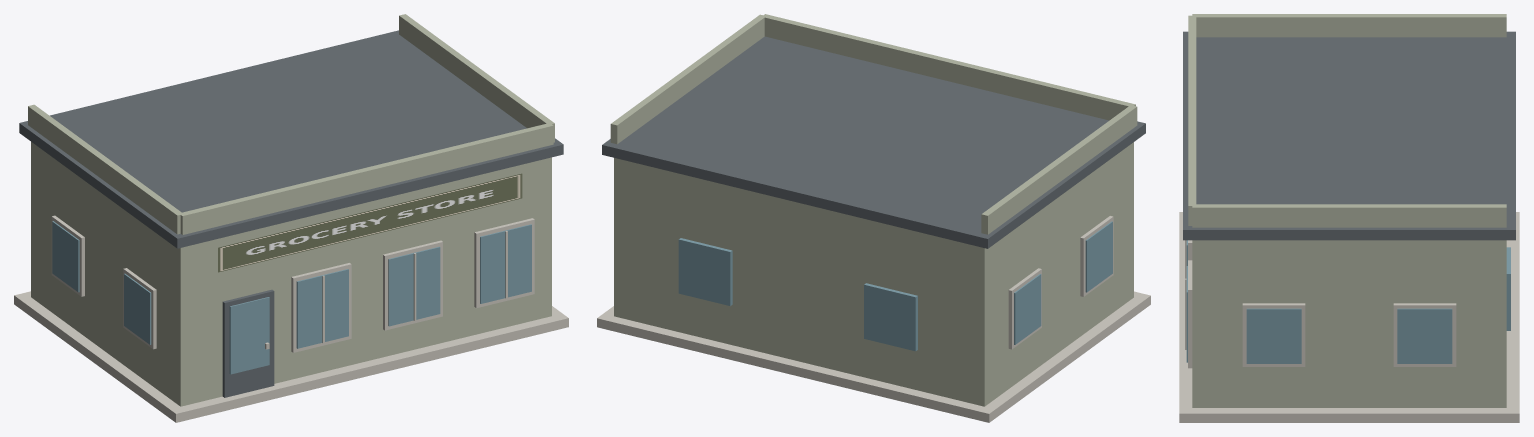
File: grocery_store.glb
3 views of the same model, side by side, from view 1: azimuth 30°, elevation 25°; view 2: azimuth 150°, elevation 25°; view 3: azimuth 270°, elevation 25° (orthographic). The views are drawn at different scales.
Parts seen in each view (by area): view 1: world; view 2: world; view 3: world.
Boxes of the visible parts, box(x1,y1,x2,y2) form: world: box(14, 14, 568, 422); world: box(597, 14, 1150, 422); world: box(1179, 14, 1519, 422).
Bounding box in the file's own units: 9.1 × 4.45 × 6.5.
Materials: 2 (1 with a texture image).
